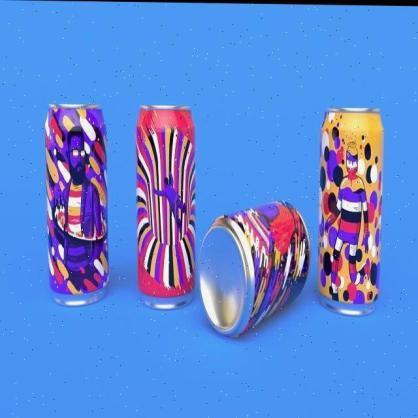can: (41, 102, 109, 304), (316, 107, 382, 314), (134, 100, 194, 308)
